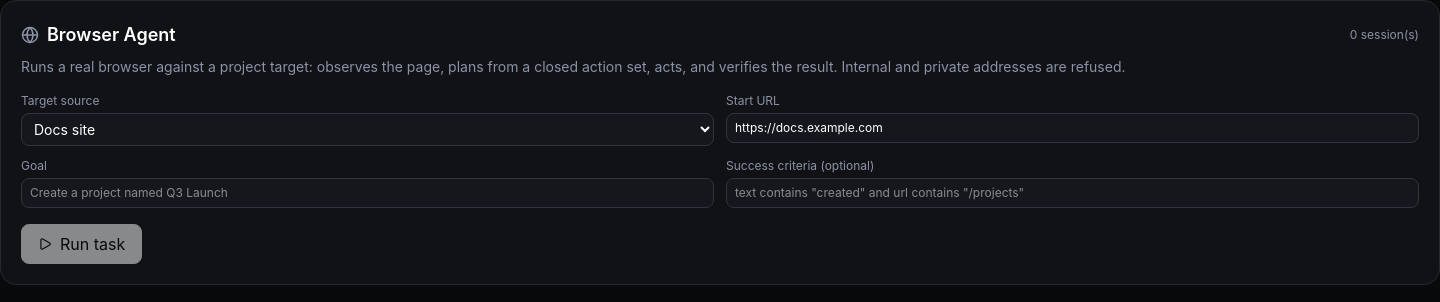
Test: BrowserPanel › surfaces a server error instead of pretending the run started
In the field labelled "Goal": (368, 193) 21,178 -> 714,208, type "Try something forbidden"
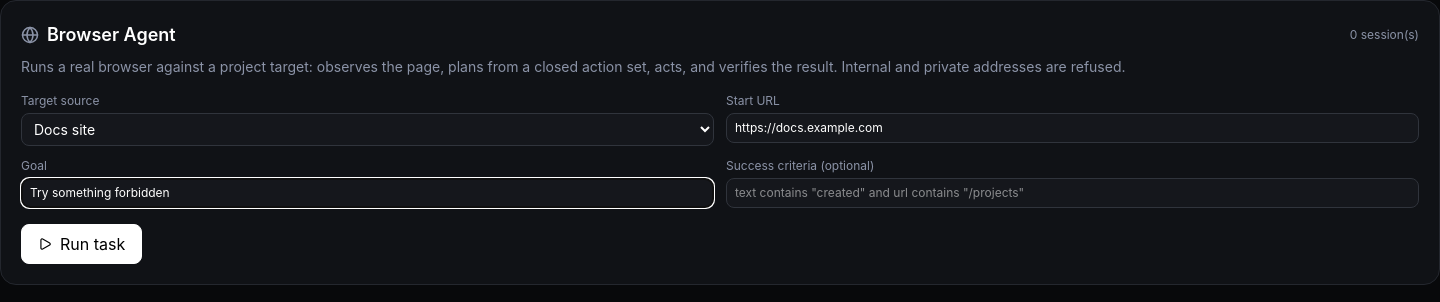
Click the button "Run task": (82, 244) 21,224 -> 142,264
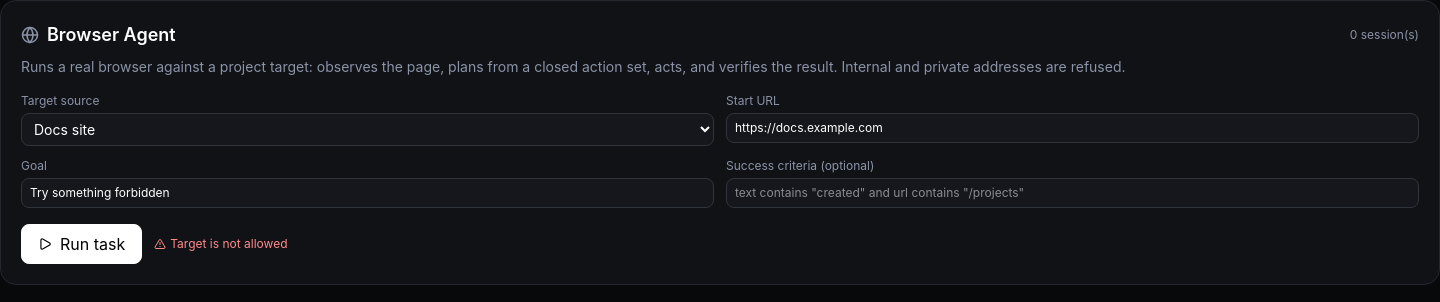
Now the text "Target is not allowed" is shown, box 154,236 -> 288,252
